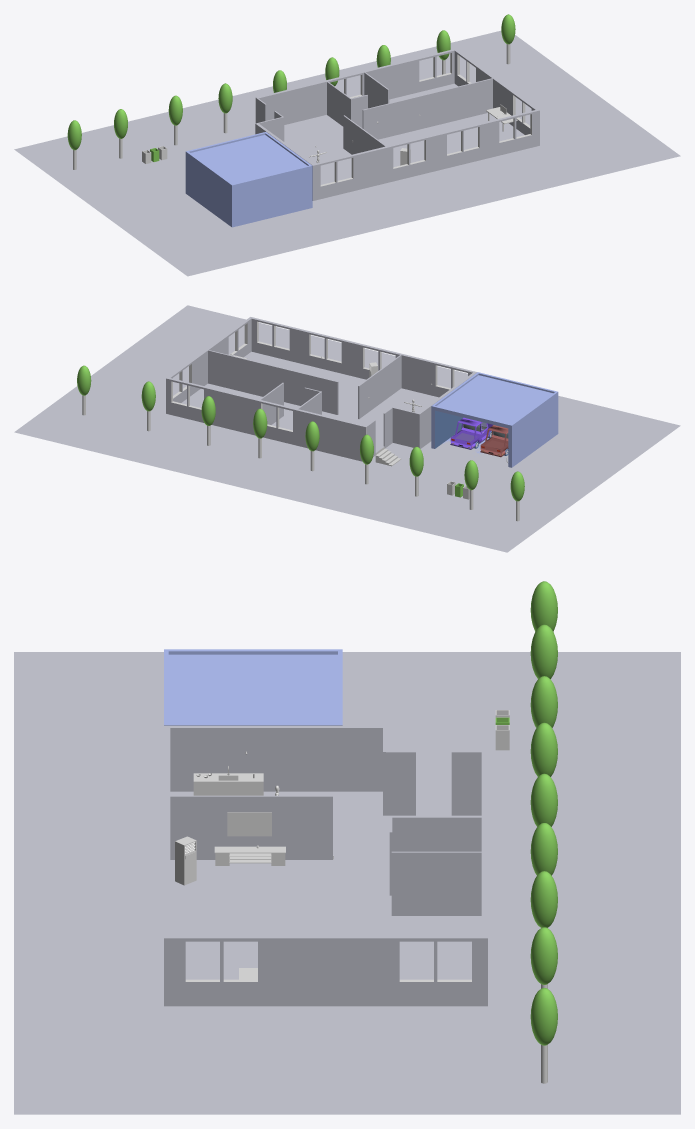
Rendered from BasicScene2.fbx.
3 views of the same model, one above another, from view 1: azimuth 30°, elevation 25°; view 2: azimuth 150°, elevation 25°; view 3: azimuth 270°, elevation 25° (orthographic). The views are drawn at different scales.
Visible parts, largest first — view 1: Plane, Boole_1_5, Cube_16_3, Cube_10_2, Cube_7_3, Cube_1_16, Cube_2_7, Cube_3_7; view 2: Plane, Boole_1_5, Cube_16_3, Cube_10_2, Cube_7_3, Cube_5_5, Cube_13_3, Cube_5_8, Cube_2_7, Cube_15_4; view 3: Plane, Boole_1_5, Cube_16_3, Cube_7_3, Cube_2_7, Cube_1_16, Cube_6_3, Cube_4_7, Cube, Sphere_2, Sphere_10, Sphere_9 (+8 smaller).
Part boxes in pixels (x1=…): Plane: x1=14, y1=30, x2=680, y2=276; Boole_1_5: x1=256, y1=48, x2=539, y2=200; Cube_16_3: x1=185, y1=132, x2=312, y2=227; Cube_10_2: x1=362, y1=78, x2=492, y2=139; Cube_7_3: x1=343, y1=115, x2=386, y2=154; Cube_1_16: x1=327, y1=81, x2=350, y2=126; Cube_2_7: x1=364, y1=72, x2=389, y2=108; Cube_3_7: x1=350, y1=95, x2=367, y2=128; Plane: x1=14, y1=305, x2=680, y2=552; Boole_1_5: x1=166, y1=317, x2=477, y2=461; Cube_16_3: x1=431, y1=372, x2=558, y2=467; Cube_10_2: x1=208, y1=350, x2=338, y2=414; Cube_7_3: x1=358, y1=355, x2=401, y2=418; Cube_5_5: x1=392, y1=407, x2=420, y2=448; Cube_13_3: x1=450, y1=417, x2=492, y2=448; Cube_5_8: x1=435, y1=410, x2=463, y2=448; Cube_2_7: x1=260, y1=382, x2=283, y2=424; Cube_15_4: x1=480, y1=425, x2=508, y2=455; Plane: x1=14, y1=652, x2=680, y2=1114; Boole_1_5: x1=164, y1=725, x2=487, y2=1006; Cube_16_3: x1=164, y1=649, x2=342, y2=725; Cube_7_3: x1=170, y1=795, x2=332, y2=859; Cube_2_7: x1=391, y1=851, x2=481, y2=915; Cube_1_16: x1=392, y1=816, x2=481, y2=851; Cube_6_3: x1=384, y1=751, x2=415, y2=815; Cube_4_7: x1=451, y1=751, x2=481, y2=815; Cube: x1=193, y1=773, x2=263, y2=795; Sphere_2: x1=530, y1=988, x2=557, y2=1045; Sphere_10: x1=530, y1=927, x2=557, y2=984; Sphere_9: x1=530, y1=871, x2=557, y2=927.
Bounding box in the file's own units: 4903 × 487 × 2988.
